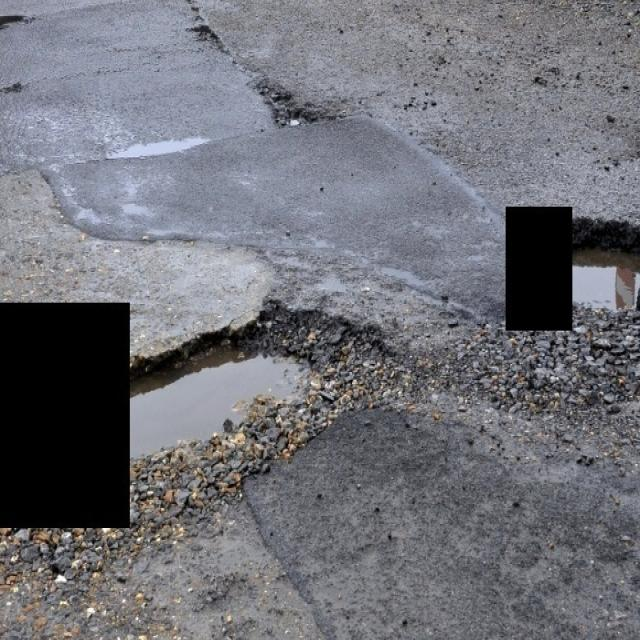road-pothole: (135, 295, 404, 533), (571, 214, 639, 316)
